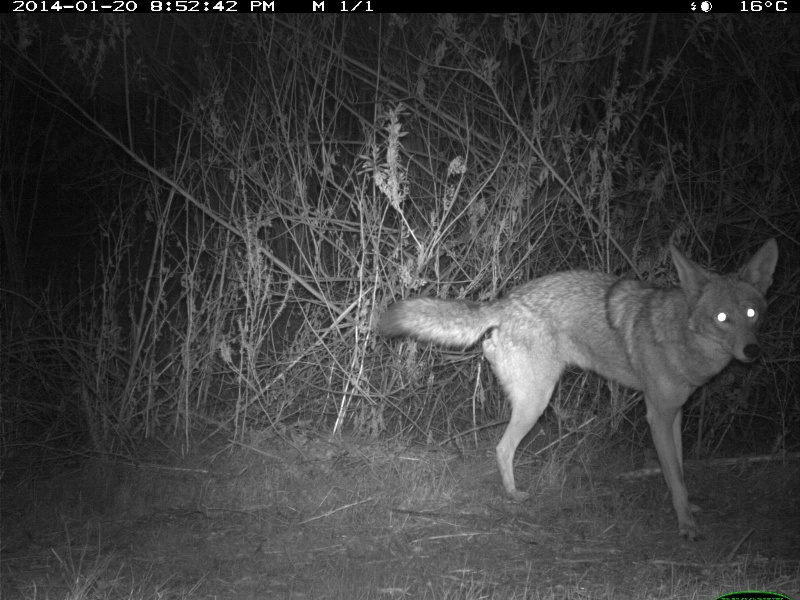coyote: (386, 238, 785, 544)
